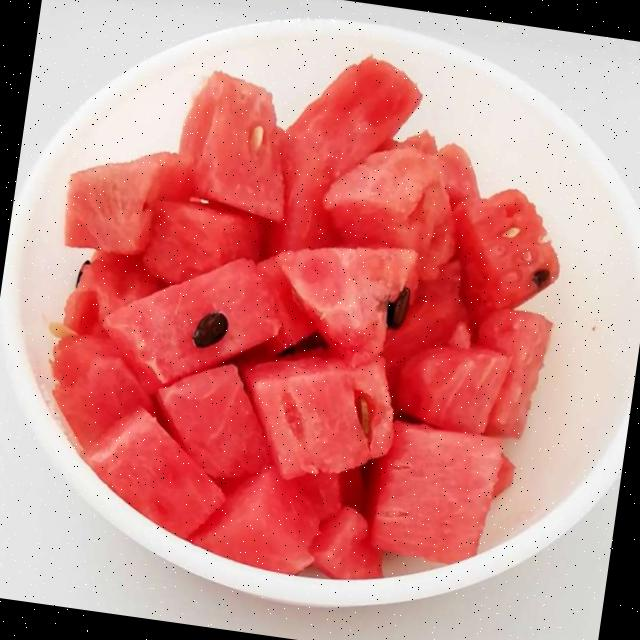watermelon-fresh: (48, 67, 553, 571)
